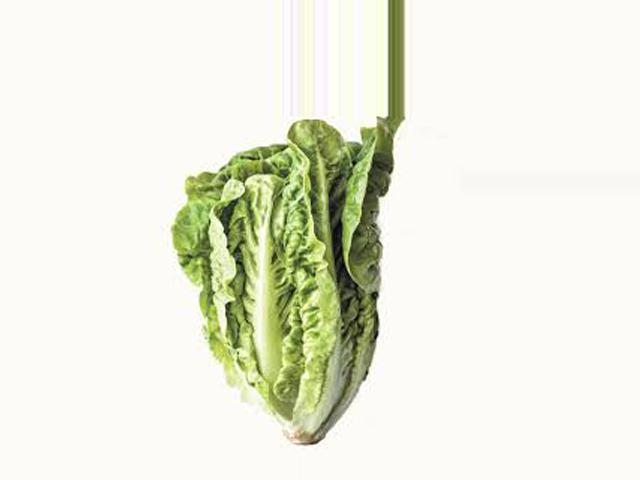lettuce: (159, 118, 393, 436)
